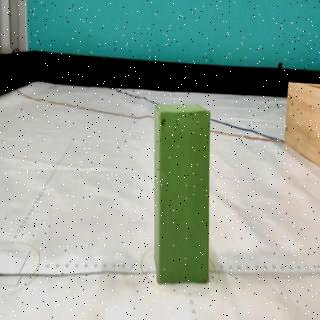greenbox: (152, 102, 212, 284)
